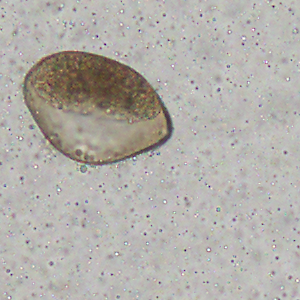Fasciola_hepatica_egg: (21, 49, 174, 166)
